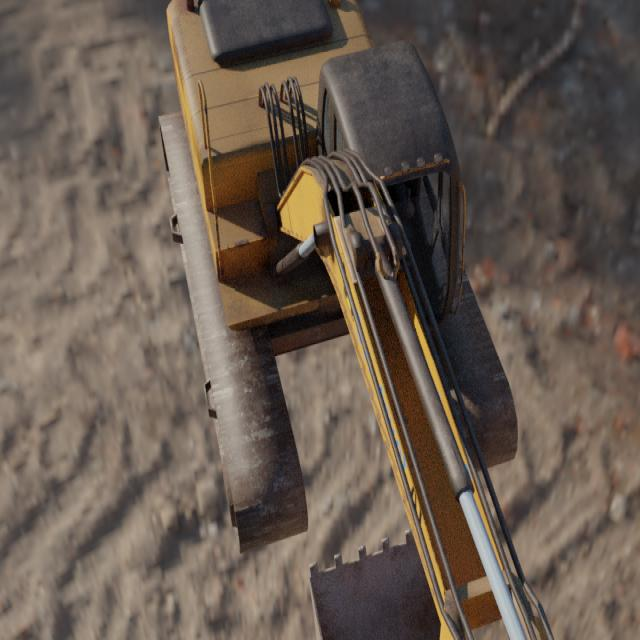excavator: (158, 0, 554, 640)
